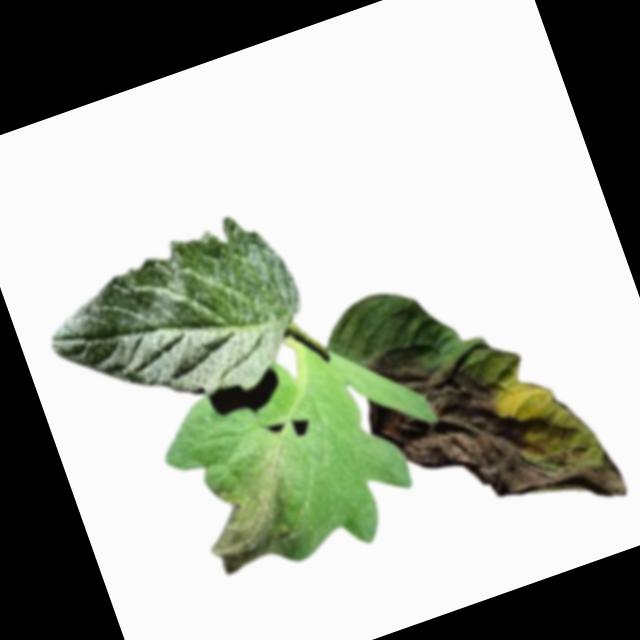Late_blight: (346, 290, 630, 569), (188, 454, 320, 582)
